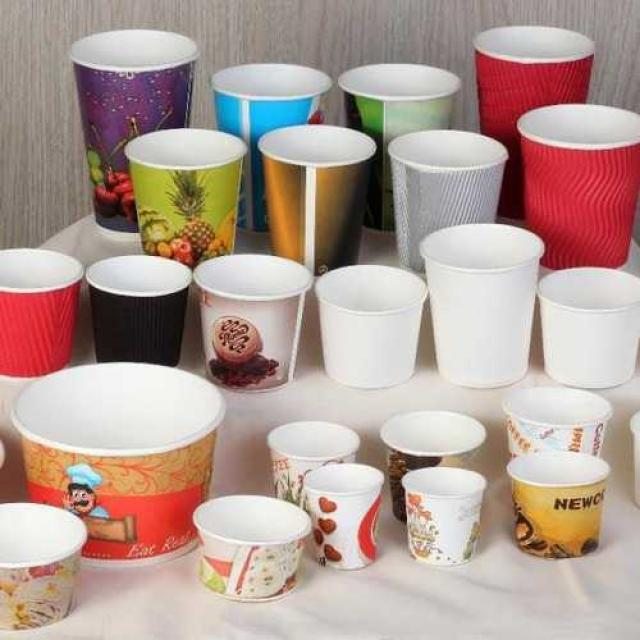PaperCardboard: (17, 365, 226, 560), (75, 29, 195, 231), (477, 28, 599, 208), (415, 226, 543, 388), (342, 58, 462, 228), (250, 121, 372, 285), (212, 63, 328, 233), (521, 102, 640, 264), (124, 121, 247, 270), (263, 421, 384, 567), (195, 253, 317, 396), (313, 266, 426, 385), (78, 257, 188, 374), (534, 270, 640, 388), (195, 495, 314, 600), (380, 410, 488, 523), (507, 451, 607, 559), (0, 245, 80, 376), (0, 504, 78, 628), (398, 468, 477, 559), (503, 394, 612, 454)
